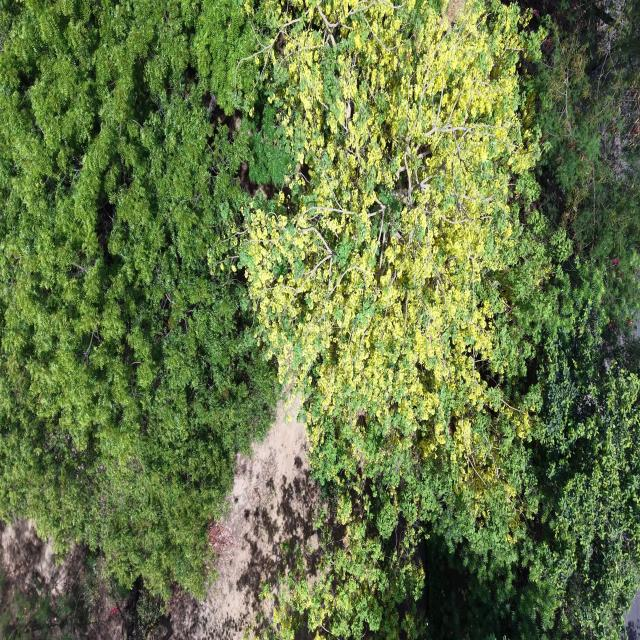DRY_AREA: (150, 398, 319, 639), (152, 397, 320, 639), (151, 399, 319, 639), (171, 398, 319, 639), (0, 520, 130, 639), (0, 520, 83, 596), (626, 591, 639, 639), (626, 593, 639, 639), (446, 0, 464, 25), (635, 311, 639, 337)
VEGETATION_TREE: (0, 0, 639, 638), (244, 3, 639, 637), (241, 3, 570, 637), (0, 0, 277, 595), (426, 3, 639, 638), (424, 326, 639, 639), (524, 0, 639, 325), (0, 539, 168, 639), (0, 568, 87, 639)
